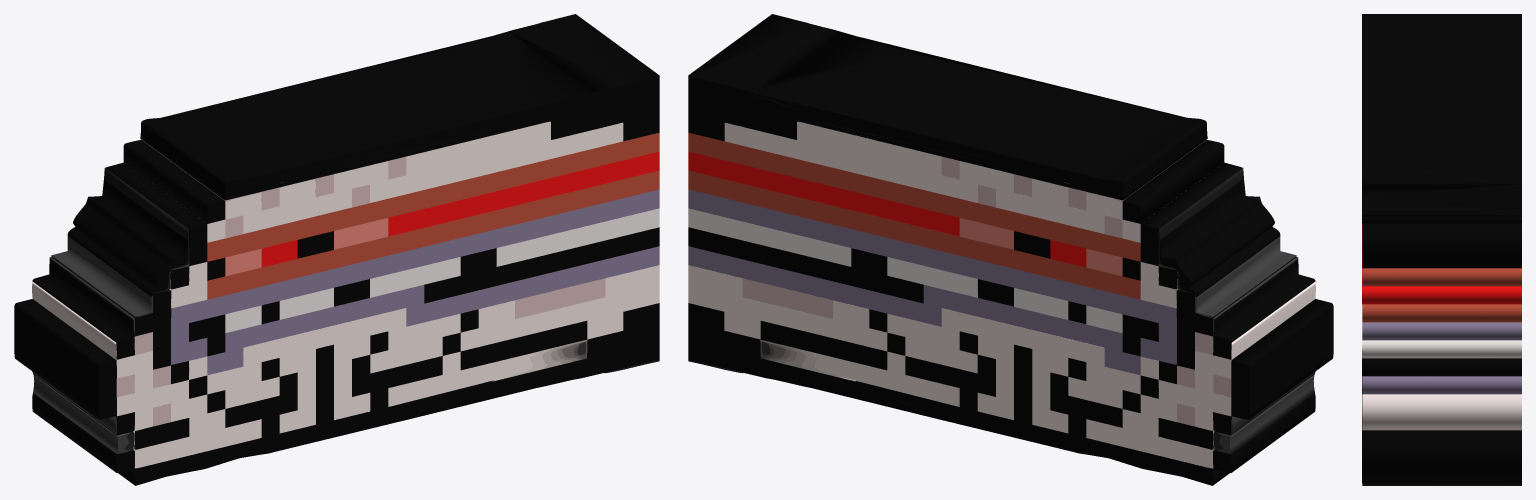
File: Toadz_123.glb
The picture shows the model from 3 angles, left to right: view 1: azimuth 30°, elevation 25°; view 2: azimuth 150°, elevation 25°; view 3: azimuth 270°, elevation 25°; orthographic projection. The views are drawn at different scales.
Visible parts, largest first — view 1: Curve; view 2: Curve; view 3: Curve.
Boxes of the visible parts, <box> form: Curve: <box>14,14,659,485</box>; Curve: <box>688,14,1333,485</box>; Curve: <box>1362,14,1521,485</box>.
Bounding box in the file's own units: 3.86 × 1.88 × 1.
